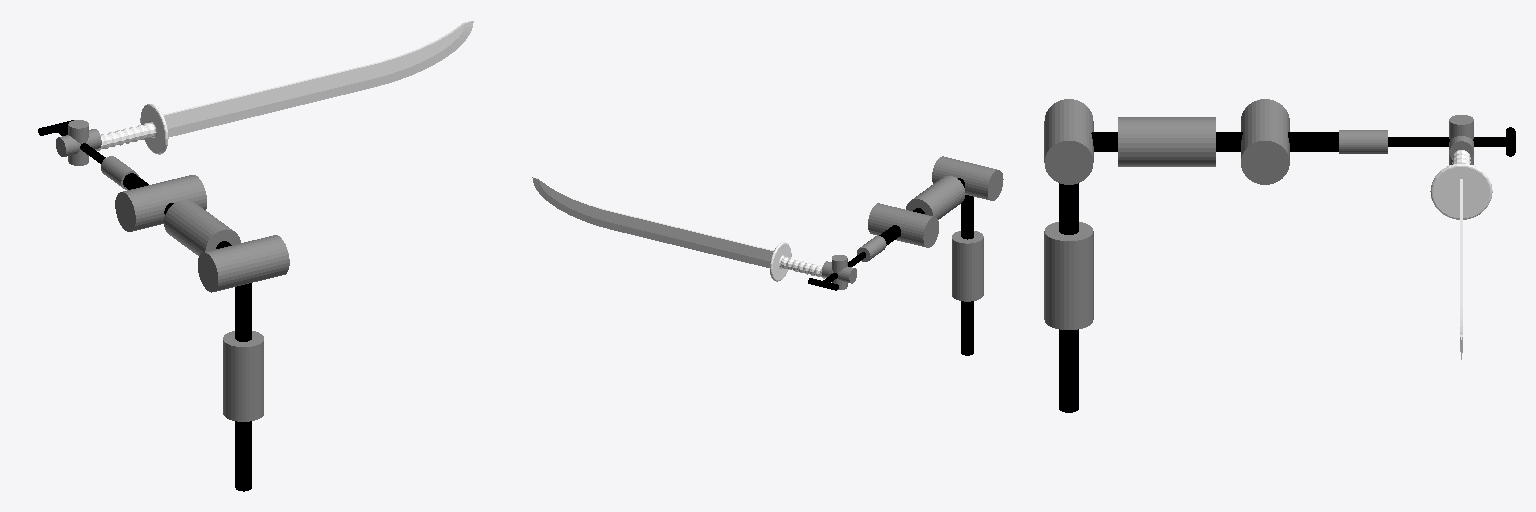
robot.urdf — FruitNinja:
<?xml version="1.0" encoding="utf-8"?>

<robot name="FruitNinja">
  
  <!-- *************************************************** -->
  <!-- ******************** Kinematics ******************* -->
  <!-- *************************************************** -->

  <link name="world"/>

  <joint name="theta1" type="continuous">
    <parent link="world"/>
    <child  link="link1"/>
    <origin xyz="0 0 0.6" rpy="0 0 0"/>
    <axis   xyz="0 0 1"/>
    <dynamics damping="0.5"/>
  </joint>

  <link name="link1"/>

  <joint name="theta2" type="continuous">
    <parent link="link1"/>
    <child  link="link2"/>
    <origin xyz="0 0 0" rpy="0 0 0"/>
    <axis   xyz="1 0 0"/>
    <dynamics damping="1.0"/>
  </joint>

  <link name="link2"/>

  <joint name="attach-shoulder" type="fixed">
    <parent link="link2"/>
    <child  link="shoulder"/>
  </joint>

  <link name="shoulder"/>

  <joint name="theta3" type="continuous">
    <parent link="link2"/>
    <child  link="link3"/>
    <origin xyz="0 0.4 0" rpy="0 0 0"/>
    <axis   xyz="0 1 0 "/>
    <dynamics damping="0.05"/>
  </joint>

  <link name="link3"/>

  <joint name="theta4" type="continuous">
    <parent link="link3"/>
    <child  link="link4"/>
    <origin xyz="0 0 0" rpy="0 0 0"/>
    <axis   xyz="1 0 0 "/>
    <dynamics damping="0.1"/>
  </joint>

  <link name="link4"/>

  <joint name="attach-elbow" type="fixed">
    <parent link="link4"/>
    <child  link="elbow"/>
  </joint>

  <link name="elbow"/>

  <joint name="theta5" type="continuous">
    <parent link="link4"/>
    <child  link="link5"/>
    <origin xyz="0 0.4 0" rpy="0 0 0"/>
    <axis   xyz="0 1 0"/>
    <dynamics damping="0.02"/>
  </joint>

  <link name="link5"/>

  <joint name="theta6" type="continuous">
    <parent link="link5"/>
    <child  link="link6"/>
    <origin xyz="0 0 0" rpy="0 0 0"/>
    <axis   xyz="0 0 1"/>
    <dynamics damping="0.02"/>
  </joint>

  <link name="link6"/>

  <joint name="theta7" type="continuous">
    <parent link="link6"/>
    <child  link="link7"/>
    <origin xyz="0 0 0" rpy="0 0 0"/>
    <axis   xyz="1 0 0"/>
    <dynamics damping="0.02"/>
  </joint>

  <link name="link7"/>

  <joint name="attach-wrist" type="fixed">
    <parent link="link7"/>
    <child  link="wrist"/>
  </joint>

  <link name="wrist"/>

  <joint name="final" type="fixed">
    <parent link="link7"/>
    <child  link="tip"/>
    <origin xyz="0 0.15 0" rpy="1.5708 0 3.1416"/>
  </joint>

  <link name="tip"/>


  <!-- *************************************************** -->
  <!-- ******************* RVIZ Colors ******************* -->
  <!-- *************************************************** -->

  <material name="white">    <color rgba="1.00 1.00 1.00 1"/>  </material>
  <material name="gray">     <color rgba="0.60 0.60 0.60 1"/>  </material>
  <material name="table">    <color rgba="0.85 0.77 0.77 1"/>  </material>
  <material name="black">    <color rgba="0.00 0.00 0.00 1"/>  </material>

  <material name="red">      <color rgba="1.00 0.00 0.00 1"/>  </material>
  <material name="green">    <color rgba="0.00 1.00 0.00 1"/>  </material>
  <material name="blue">     <color rgba="0.00 0.00 1.00 1"/>  </material>

  <material name="cyan">     <color rgba="0.00 1.00 1.00 1"/>  </material>
  <material name="magenta">  <color rgba="1.00 0.00 1.00 1"/>  </material>
  <material name="yellow">   <color rgba="1.00 1.00 0.00 1"/>  </material>

  <material name="orange">   <color rgba="1.00 0.65 0.00 1"/>  </material>


  <!-- *************************************************** -->
  <!-- ****** Building Blocks (Visual AND Inertial) ****** -->
  <!-- *************************************************** -->

  <!-- *** World-Fixed: Mount 1, Motor 1 *** -->

  <joint name="attach-mount1" type="fixed">
    <parent link="world"/>
    <child  link="mount1"/>
  </joint>
  <link name="mount1">
    <visual>
      <origin xyz="0 0 0.1" rpy="0 0 0"/>
      <geometry>
	<cylinder length="0.2" radius="0.02"/>
      </geometry>
      <material name="black"/>
    </visual>
    <inertial>
      <origin xyz="0 0 0.1" rpy="0 0 0"/>
      <mass value="0.2"/>
      <inertia
        ixx="0.000687" ixy="0.0" ixz="0.0"
        iyy="0.000687" iyz="0.0"
        izz="0.000040"/>
    </inertial>
  </link>

  <joint name="attach-motor1" type="fixed">
    <parent link="world"/>
    <child  link="motor1"/>
  </joint>
  <link name="motor1">
    <visual>
      <origin xyz="0 0 0.3" rpy="0 0 0"/>
      <geometry>
	<cylinder length="0.2" radius="0.05"/>
      </geometry>
      <material name="gray"/>
    </visual>
    <inertial>
      <origin xyz="0 0 0.3" rpy="0 0 0"/>
      <mass value="2.0"/>
      <inertia
        ixx="0.007917" ixy="0.0" ixz="0.0"
        iyy="0.007917" iyz="0.0"
        izz="0.002500"/>
    </inertial>
  </link>

  <!-- *** Motor 1 Output: Mount 2, Motor 2 *** -->

  <joint name="attach-mount2" type="fixed">
    <parent link="link1"/>
    <child  link="mount2"/>
  </joint>
  <link name="mount2">
    <visual>
      <origin xyz="0 0 -0.1" rpy="0 0 0"/>
      <geometry>
	<cylinder length="0.2" radius="0.02"/>
      </geometry>
      <material name="black"/>
    </visual>
    <inertial>
      <origin xyz="0 0 -0.1" rpy="0 0 0"/>
      <mass value="0.2"/>
      <inertia
        ixx="0.000687" ixy="0.0" ixz="0.0"
        iyy="0.000687" iyz="0.0"
        izz="0.000040"/>
    </inertial>
  </link>

  <joint name="attach-motor2" type="fixed">
    <parent link="link1"/>
    <child  link="motor2"/>
  </joint>
  <link name="motor2">
    <visual>
      <origin xyz="0 0 0" rpy="0 1.5708 0"/>
      <geometry>
	<cylinder length="0.2" radius="0.05"/>
      </geometry>
      <material name="gray"/>
    </visual>
    <inertial>
      <origin xyz="0 0 0" rpy="0 1.5708 0"/>
      <mass value="2.0"/>
      <inertia
        ixx="0.007917" ixy="0.0" ixz="0.0"
        iyy="0.007917" iyz="0.0"
        izz="0.002500"/>
    </inertial>
  </link>

  <!-- *** Motor 2 Output: Mount 3, Motor 3 *** -->

  <joint name="attach-mount3" type="fixed">
    <parent link="link2"/>
    <child  link="mount3"/>
  </joint>
  <link name="mount3">
    <visual>
      <origin xyz="0 0.1 0" rpy="1.5708 0 0"/>
      <geometry>
	<cylinder length="0.2" radius="0.02"/>
      </geometry>
      <material name="black"/>
    </visual>
    <inertial>
      <origin xyz="0 0.1 0" rpy="1.5708 0 0"/>
      <mass value="0.2"/>
      <inertia
        ixx="0.000687" ixy="0.0" ixz="0.0"
        iyy="0.000687" iyz="0.0"
        izz="0.000040"/>
    </inertial>
  </link>

  <joint name="attach-motor3" type="fixed">
    <parent link="link2"/>
    <child  link="motor3"/>
  </joint>
  <link name="motor3">
    <visual>
      <origin xyz="0 0.2 0" rpy="1.5708 0 0"/>
      <geometry>
	<cylinder length="0.2" radius="0.05"/>
      </geometry>
      <material name="gray"/>
    </visual>
    <inertial>
      <origin xyz="0 0.2 0" rpy="1.5708 0 0"/>
      <mass value="2.0"/>
      <inertia
        ixx="0.007917" ixy="0.0" ixz="0.0"
        iyy="0.007917" iyz="0.0"
        izz="0.002500"/>
    </inertial>
  </link>

  <!-- *** Motor 3 Output: Mount 4, Motor 4 *** -->

  <joint name="attach-mount4" type="fixed">
    <parent link="link3"/>
    <child  link="mount4"/>
  </joint>
  <link name="mount4">
    <visual>
      <origin xyz="0 -0.1 0" rpy="1.5708 0 0"/>
      <geometry>
	<cylinder length="0.2" radius="0.02"/>
      </geometry>
      <material name="black"/>
    </visual>
    <inertial>
      <origin xyz="0 -0.1 0" rpy="1.5708 0 0"/>
      <mass value="0.2"/>
      <inertia
        ixx="0.000687" ixy="0.0" ixz="0.0"
        iyy="0.000687" iyz="0.0"
        izz="0.000040"/>
    </inertial>
  </link>

  <joint name="attach-motor4" type="fixed">
    <parent link="link3"/>
    <child  link="motor4"/>
  </joint>
  <link name="motor4">
    <visual>
      <origin xyz="0 0 0" rpy="0 1.5708 0"/>
      <geometry>
	<cylinder length="0.2" radius="0.05"/>
      </geometry>
      <material name="gray"/>
    </visual>
    <inertial>
      <origin xyz="0 0 0" rpy="0 1.5708 0"/>
      <mass value="2.0"/>
      <inertia
        ixx="0.007917" ixy="0.0" ixz="0.0"
        iyy="0.007917" iyz="0.0"
        izz="0.002500"/>
    </inertial>
  </link>

  <!-- *** Motor 4 Output: Mount 5, Motor 5 *** -->

  <joint name="attach-mount5" type="fixed">
    <parent link="link4"/>
    <child  link="mount5"/>
  </joint>
  <link name="mount5">
    <visual>
      <origin xyz="0 0.1 0" rpy="1.5708 0 0"/>
      <geometry>
	<cylinder length="0.2" radius="0.02"/>
      </geometry>
      <material name="black"/>
    </visual>
    <inertial>
      <origin xyz="0 0.1 0" rpy="1.5708 0 0"/>
      <mass value="0.2"/>
      <inertia
        ixx="0.000687" ixy="0.0" ixz="0.0"
        iyy="0.000687" iyz="0.0"
        izz="0.000040"/>
    </inertial>
  </link>

  <joint name="attach-motor5" type="fixed">
    <parent link="link4"/>
    <child  link="motor5"/>
  </joint>
  <link name="motor5">
    <visual>
      <origin xyz="0 0.2 0" rpy="1.5708 0 0"/>
      <geometry>
	<cylinder length="0.1" radius="0.025"/>
      </geometry>
      <material name="gray"/>
    </visual>
    <inertial>
      <origin xyz="0 0.2 0" rpy="1.5708 0 0"/>
      <mass value="1.0"/>
      <inertia
        ixx="0.000990" ixy="0.0" ixz="0.0"
        iyy="0.000990" iyz="0.0"
        izz="0.000313"/>
    </inertial>
  </link>

  <!-- *** Motor 5 Output: Mount 6, Motor 6 *** -->

  <joint name="attach-mount6" type="fixed">
    <parent link="link5"/>
    <child  link="mount6"/>
  </joint>
  <link name="mount6">
    <visual>
      <origin xyz="0 -0.1 0" rpy="1.5708 0 0"/>
      <geometry>
	<cylinder length="0.2" radius="0.01"/>
      </geometry>
      <material name="black"/>
    </visual>
    <inertial>
      <origin xyz="0 -0.1 0" rpy="1.5708 0 0"/>
      <mass value="0.1"/>
      <inertia
        ixx="0.000336" ixy="0.0" ixz="0.0"
        iyy="0.000336" iyz="0.0"
        izz="0.000005"/>
    </inertial>
  </link>

  <joint name="attach-motor6" type="fixed">
    <parent link="link5"/>
    <child  link="motor6"/>
  </joint>
  <link name="motor6">
    <visual>
      <origin xyz="0 0 0" rpy="0 0 0"/>
      <geometry>
	<cylinder length="0.1" radius="0.025"/>
      </geometry>
      <material name="gray"/>
    </visual>
    <inertial>
      <origin xyz="0 0 0" rpy="0 0 0"/>
      <mass value="1.0"/>
      <inertia
        ixx="0.000990" ixy="0.0" ixz="0.0"
        iyy="0.000990" iyz="0.0"
        izz="0.000313"/>
    </inertial>
  </link>

  <!-- *** Motor 6 Output: Motor 7 *** -->

  <joint name="attach-motor7" type="fixed">
    <parent link="link6"/>
    <child  link="motor7"/>
  </joint>
  <link name="motor7">
    <visual>
      <origin xyz="0 0 0" rpy="0 1.5708 0"/>
      <geometry>
	<cylinder length="0.1" radius="0.025"/>
      </geometry>
      <material name="gray"/>
    </visual>
    <inertial>
      <origin xyz="0 0 0" rpy="0 1.5708 0"/>
      <mass value="1.0"/>
      <inertia
        ixx="0.000990" ixy="0.0" ixz="0.0"
        iyy="0.000990" iyz="0.0"
        izz="0.000313"/>
    </inertial>
  </link>

  <!-- *** Motor 7 Output: Base, Palm, Fingers *** -->

  <joint name="attach-handbase" type="fixed">
    <parent link="link7"/>
    <child  link="handbase"/>
  </joint>
  <link name="handbase">
    <visual>
      <origin xyz="0 0.05 0" rpy="1.5708 0 0"/>
      <geometry>
	<cylinder length="0.1" radius="0.01"/>
      </geometry>
      <material name="black"/>
    </visual>
    <inertial>
      <origin xyz="0 0.05 0" rpy="1.5708 0 0"/>
      <mass value="0.05"/>
      <inertia
        ixx="0.000043" ixy="0.0" ixz="0.0"
        iyy="0.000043" iyz="0.0"
        izz="0.000003"/>
    </inertial>
  </link>

  <joint name="attach-palm" type="fixed">
    <parent link="link7"/>
    <child  link="palm"/>
  </joint>
  <link name="palm">
    <visual>
      <origin xyz="0 0.1 0" rpy="0 1.5708 0"/>
      <geometry>
	<cylinder length="0.1" radius="0.01"/>
      </geometry>
      <material name="black"/>
    </visual>
    <inertial>
      <origin xyz="0 0.1 0" rpy="0 1.5708 0"/>
      <mass value="0.05"/>
      <inertia
        ixx="0.000043" ixy="0.0" ixz="0.0"
        iyy="0.000043" iyz="0.0"
        izz="0.000003"/>
    </inertial>
  </link>

  <joint name="attach-sabre" type="fixed">
    <parent link="link7"/>
    <child  link="sabre"/>
  </joint>
  <link 
	name="sabre">
    <inertial>
      <origin
        xyz="0.37301 -3.05430000311002E-08 -0.5079214"
        rpy="0 0 0" />
      <mass
        value="0.60441" />
      <inertia
        ixx="0.00039461"
        ixy="1.05220000000779E-08"
        ixz="-0.0012726"
        iyy="0.056288"
        iyz="-6.02900000007164E-10"
        izz="0.056171" />
    </inertial>
    <visual>
      <origin
        xyz="0 0 0"
        rpy="1.5707963267949 0 0" />
      <geometry>
        <mesh
          filename="package://Sabre/meshes/Sabre.STL" />
      </geometry>
      <material
        name="">
        <color
          rgba="1 1 1 1" />
        <texture
          filename="package://Sabre/textures/" />
      </material>
    </visual>
    <collision>
      <origin
        xyz="0 0 0"
        rpy="1.5707963267949 0 0" />
      <geometry>
        <mesh
          filename="package://Sabre/meshes/Sabre.STL" />
      </geometry>
    </collision>
  </link>




  <!-- *************************************************** -->
  <!-- ******************* Gazebo Colors ***************** -->
  <!-- *************************************************** -->

  <gazebo reference="motor1"> <material>Gazebo/Gray</material>  </gazebo>
  <gazebo reference="motor2"> <material>Gazebo/Gray</material>  </gazebo>
  <gazebo reference="motor3"> <material>Gazebo/Gray</material>  </gazebo>
  <gazebo reference="motor4"> <material>Gazebo/Gray</material>  </gazebo>
  <gazebo reference="motor5"> <material>Gazebo/Gray</material>  </gazebo>
  <gazebo reference="motor6"> <material>Gazebo/Gray</material>  </gazebo>
  <gazebo reference="motor7"> <material>Gazebo/Gray</material>  </gazebo>

  <gazebo reference="mount1">   <material>Gazebo/Black</material> </gazebo>
  <gazebo reference="mount2">   <material>Gazebo/Black</material> </gazebo>
  <gazebo reference="mount3">   <material>Gazebo/Black</material> </gazebo>
  <gazebo reference="mount4">   <material>Gazebo/Black</material> </gazebo>
  <gazebo reference="mount5">   <material>Gazebo/Black</material> </gazebo>
  <gazebo reference="mount6">   <material>Gazebo/Black</material> </gazebo>

  <gazebo reference="handbase">    <material>Gazebo/Black</material> </gazebo>
  <gazebo reference="palm">        <material>Gazebo/Black</material> </gazebo>
  <gazebo reference="leftfinger">  <material>Gazebo/Black</material> </gazebo>
  <gazebo reference="rightfinger"> <material>Gazebo/Black</material> </gazebo>

  <gazebo reference="cube-up">    <material>Gazebo/Green</material>  </gazebo>
  <gazebo reference="cube-down">  <material>Gazebo/Yellow</material> </gazebo>
  <gazebo reference="cube-left">  <material>Gazebo/Red</material>    </gazebo>
  <gazebo reference="cube-right"> <material>Gazebo/Orange</material> </gazebo>
  <gazebo reference="cube-front"> <material>Gazebo/Blue</material>   </gazebo>
  <gazebo reference="cube-back">  <material>Gazebo/White</material>  </gazebo>

</robot>

--- What the picture shows (computed from the rendered views, not written in the file) ---
The picture shows the robot from 3 angles, left to right: view 1: azimuth 30°, elevation 25°; view 2: azimuth 150°, elevation 25°; view 3: azimuth 270°, elevation 25°; orthographic projection.
Robot: FruitNinja — 28 links, 27 joints (7 continuous, 20 fixed); root link world; default pose: every joint at zero.
Visible links, largest first — view 1: sabre, motor2, motor1, motor4, motor3, mount1, mount2, motor6, motor7, motor5; view 2: sabre, motor1, motor4, motor2, motor3, mount1, mount2; view 3: motor1, motor3, motor2, motor4, sabre, mount1, motor5, mount5, mount2, mount6, motor6.
Link boxes in pixels (left/top/right/bottom): sabre: left=95, top=21, right=473, bottom=154; motor2: left=198, top=235, right=289, bottom=292; motor1: left=223, top=331, right=263, bottom=421; motor4: left=115, top=175, right=206, bottom=231; motor3: left=164, top=199, right=240, bottom=255; mount1: left=235, top=421, right=251, bottom=491; mount2: left=235, top=283, right=251, bottom=341; motor6: left=68, top=120, right=88, bottom=165; motor7: left=56, top=129, right=101, bottom=156; motor5: left=101, top=156, right=138, bottom=189; sabre: left=532, top=177, right=826, bottom=281; motor1: left=952, top=231, right=983, bottom=301; motor4: left=868, top=203, right=938, bottom=247; motor2: left=932, top=156, right=1003, bottom=200; motor3: left=906, top=176, right=965, bottom=219; mount1: left=961, top=301, right=973, bottom=355; mount2: left=961, top=195, right=973, bottom=239; motor1: left=1044, top=222, right=1093, bottom=329; motor3: left=1118, top=117, right=1215, bottom=166; motor2: left=1044, top=99, right=1093, bottom=184; motor4: left=1241, top=99, right=1289, bottom=184; sabre: left=1430, top=150, right=1492, bottom=359; mount1: left=1059, top=329, right=1078, bottom=412; motor5: left=1339, top=130, right=1387, bottom=153; mount5: left=1288, top=132, right=1338, bottom=151; mount2: left=1059, top=183, right=1078, bottom=234; mount6: left=1388, top=137, right=1449, bottom=146; motor6: left=1449, top=115, right=1473, bottom=164.
Bounding box of the posed robot: 1.21 × 0.96 × 0.6698 m (x, y, z).
Meshes: 1 distinct files referenced, 1 mesh visuals loaded (1 binary STL).